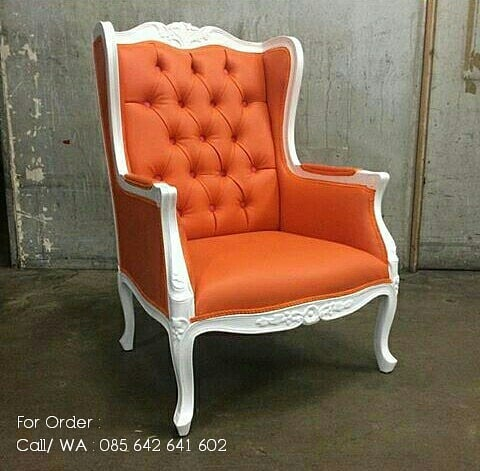Carving Chair: (90, 20, 413, 450)
